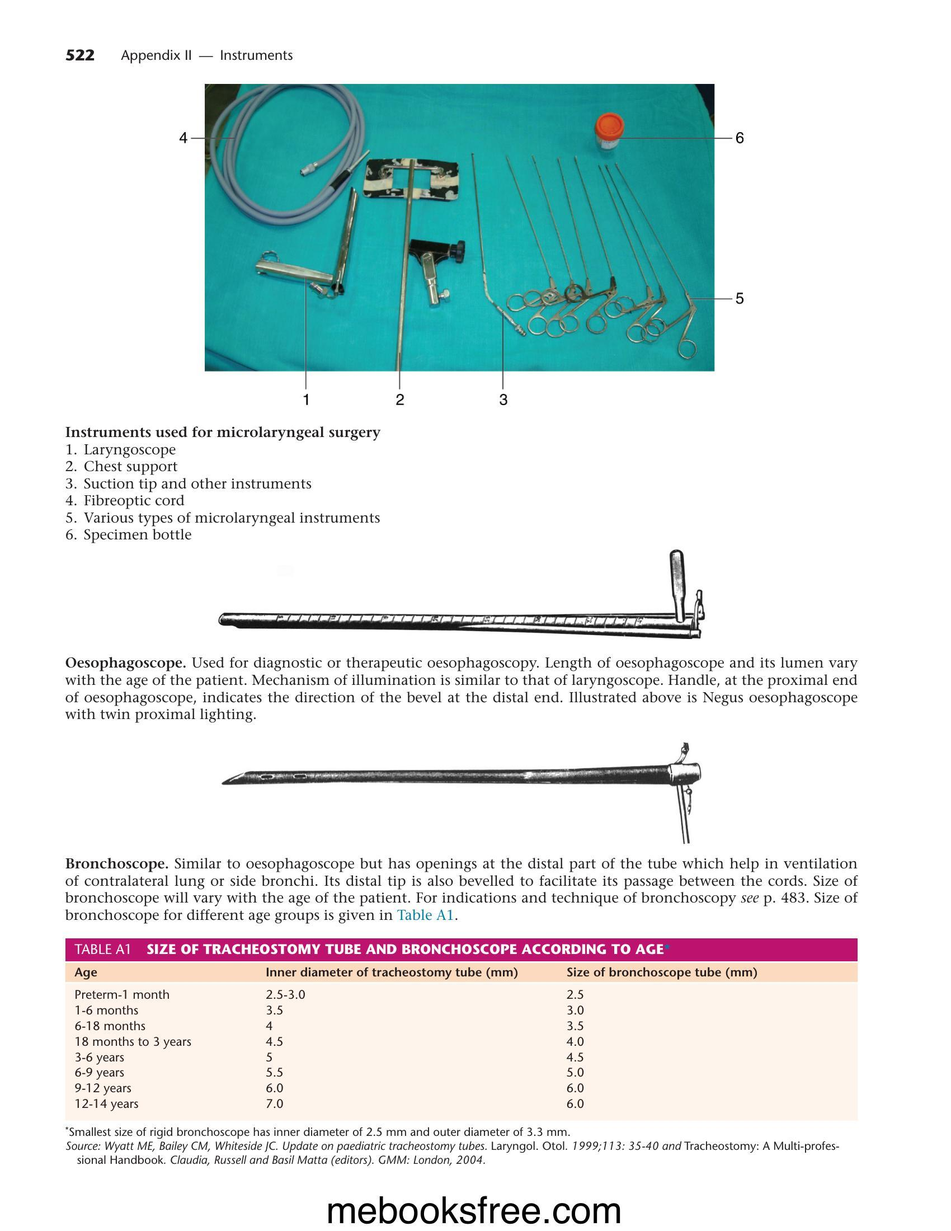caption: (73, 943, 671, 955)
chapter-heading: (120, 48, 293, 64)
image: (170, 75, 757, 416), (209, 734, 716, 851), (213, 546, 713, 647)
list: (66, 442, 381, 545)
sub-section-heading: (65, 426, 381, 441)
table: (65, 961, 858, 1167)
text: (63, 654, 859, 725), (64, 855, 859, 925)
